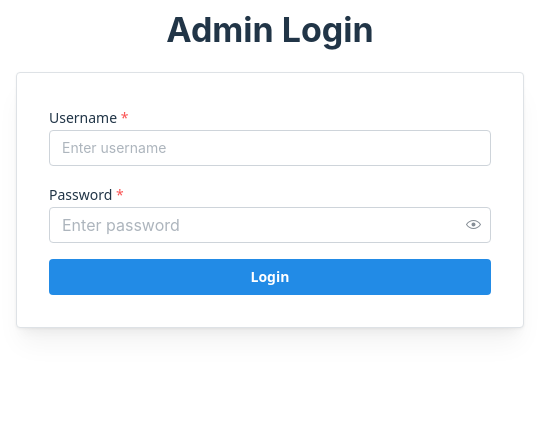
Login — accessibility › announces the error message to assistive tech via role="alert" + aria-live
Type "admin" into the field labelled "Username *".
click(270, 148); type("admin")  # box [49, 130, 491, 166]
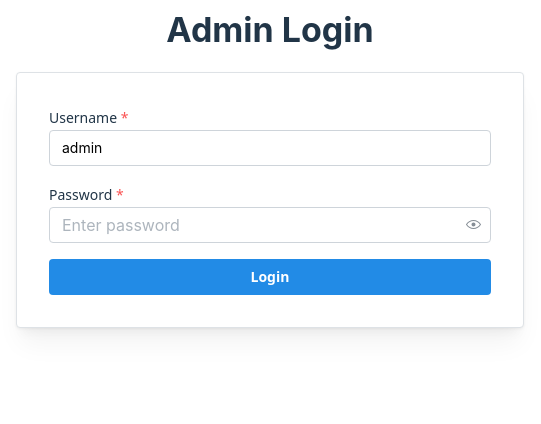
Type "wrong" into the password field labelled "Password *".
click(270, 225); type("wrong")  # box [50, 208, 490, 242]
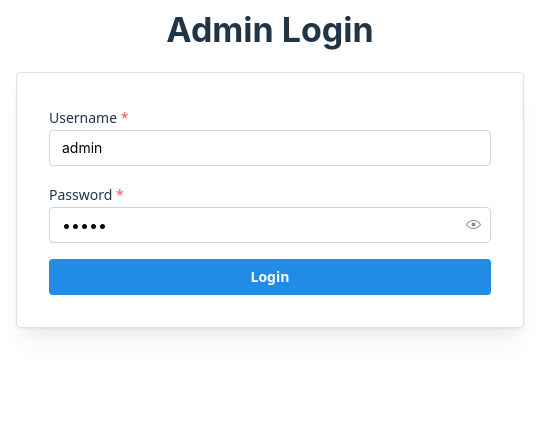
Click the button "Login".
click(270, 277)  # box [49, 259, 491, 295]
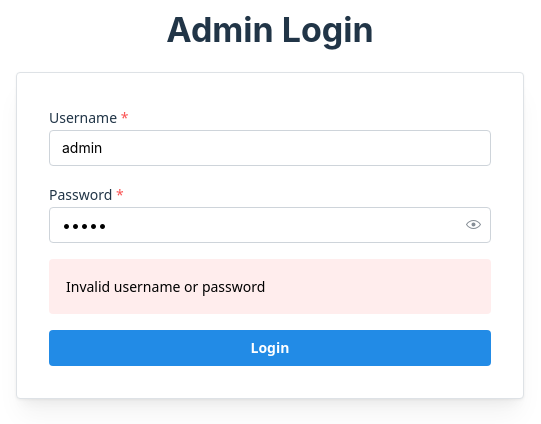
Result: the message reads "Invalid username or password" at [66, 277, 265, 296]
